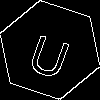U: (25, 25, 76, 81)
